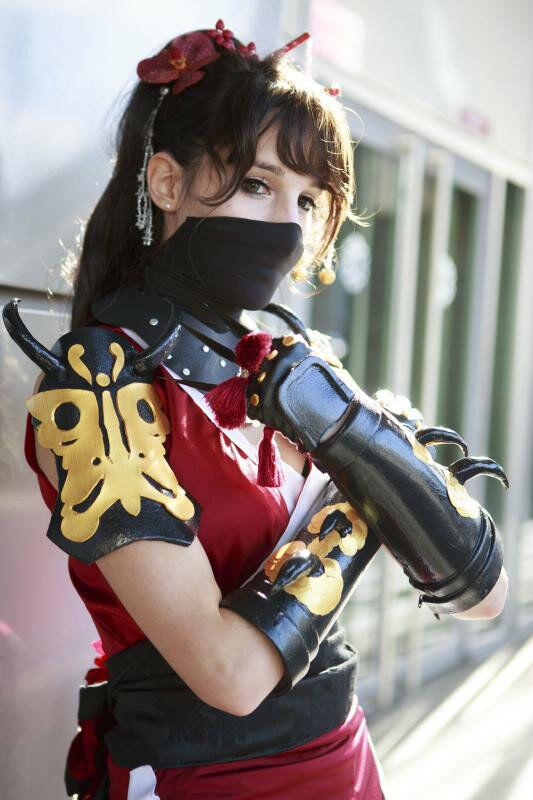OK: (182, 160, 319, 297)
